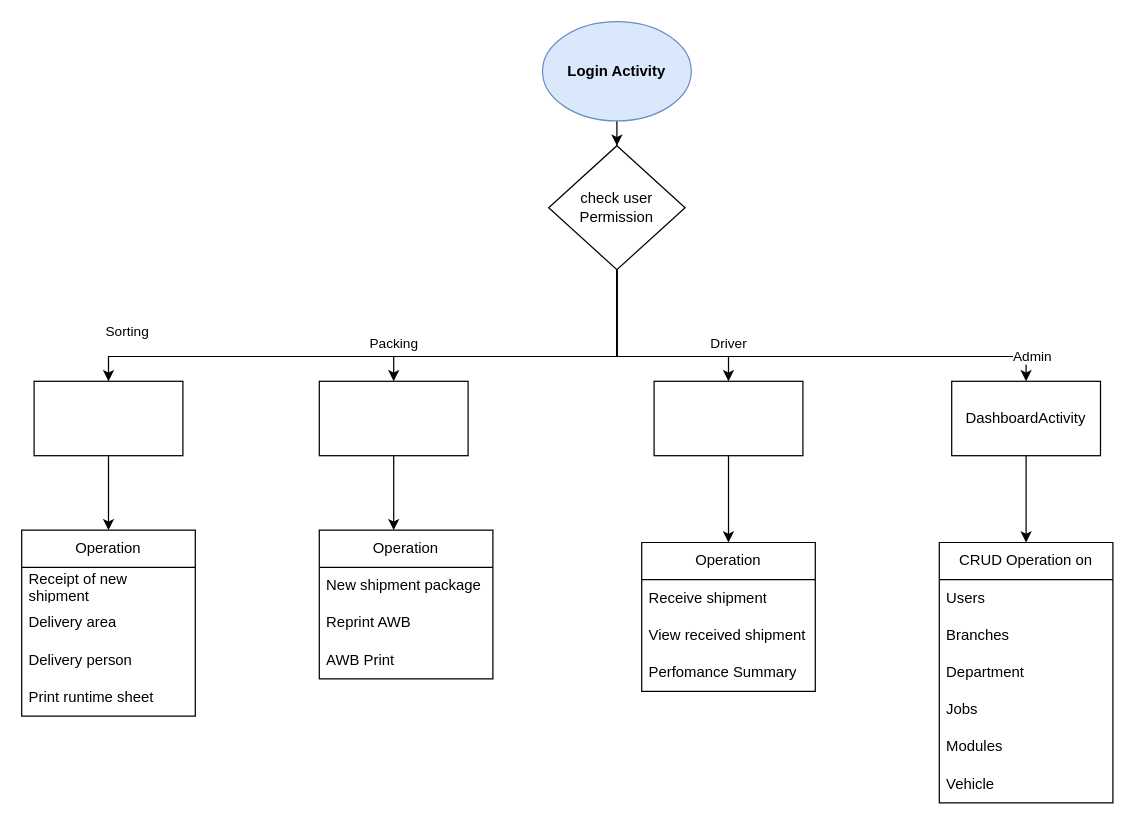
Image size: 1135x825. Some labels were removed from this diagram. Each missing label, with the box of its shape:
DriverActivity: (653, 380, 803, 456)
PackingActivity: (318, 380, 468, 456)
SortingActivity: (33, 380, 183, 456)
